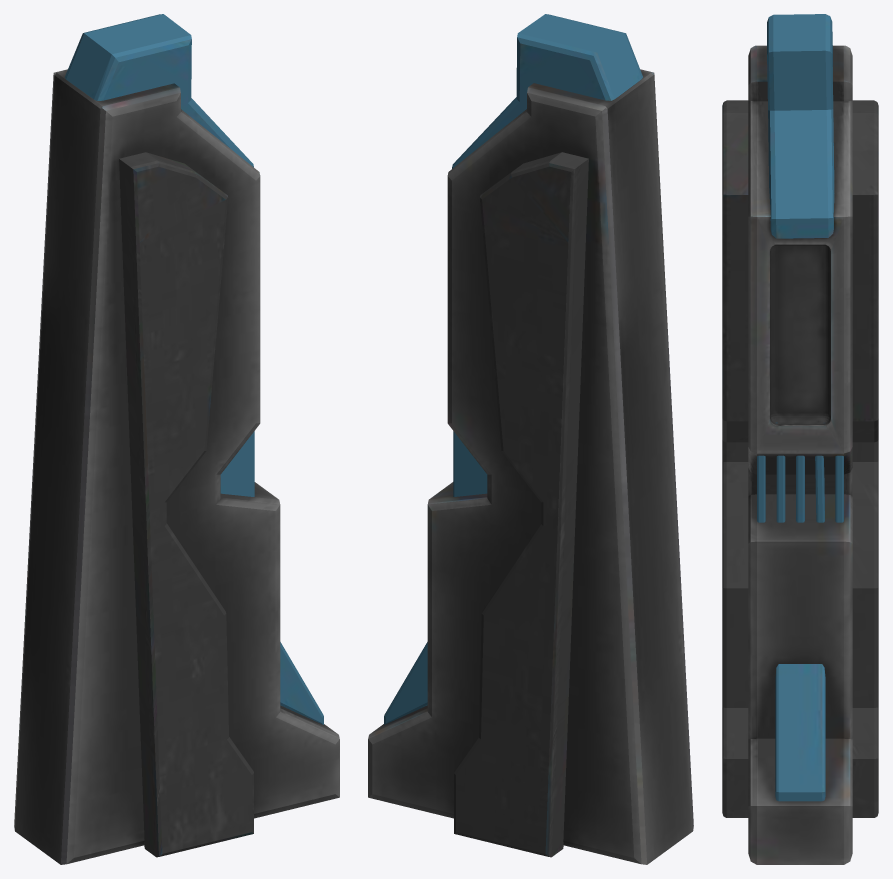
File: scifi-b1.gltf
The picture shows the model from 3 angles, left to right: view 1: azimuth 30°, elevation 25°; view 2: azimuth 150°, elevation 25°; view 3: azimuth 270°, elevation 25°; orthographic projection. The views are drawn at different scales.
Parts seen in each view (by area): view 1: lod0; view 2: lod0; view 3: lod0.
Part boxes in pixels (bbox=[...]): lod0: bbox=[14, 14, 339, 864]; lod0: bbox=[368, 14, 693, 864]; lod0: bbox=[722, 14, 878, 864].
Size of what is drawn, in the model's own units: 70 by 190 by 36.
1 material, 1 textured.
